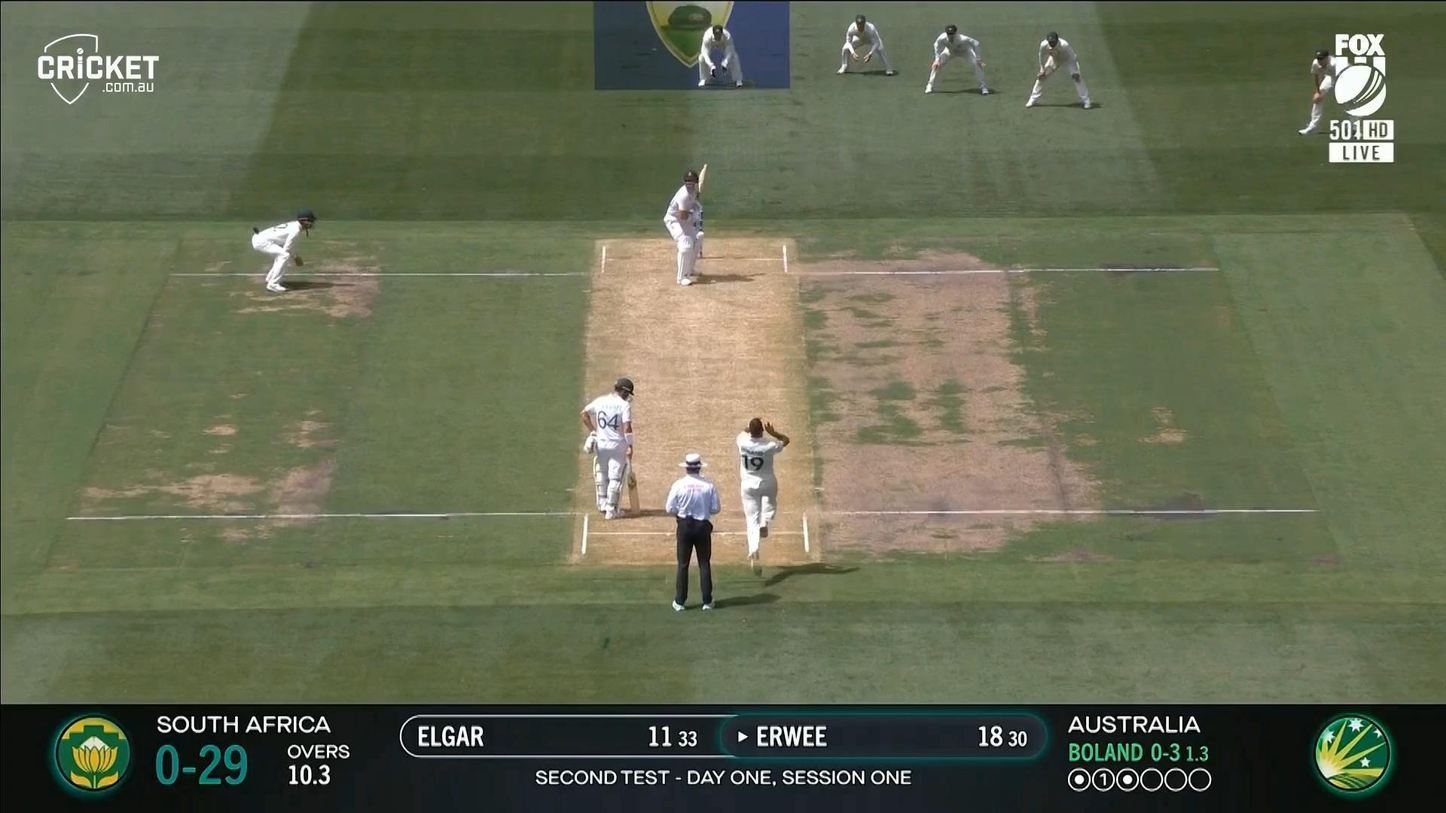BM 1: (663, 163, 707, 286)
BO: (736, 416, 791, 578)
